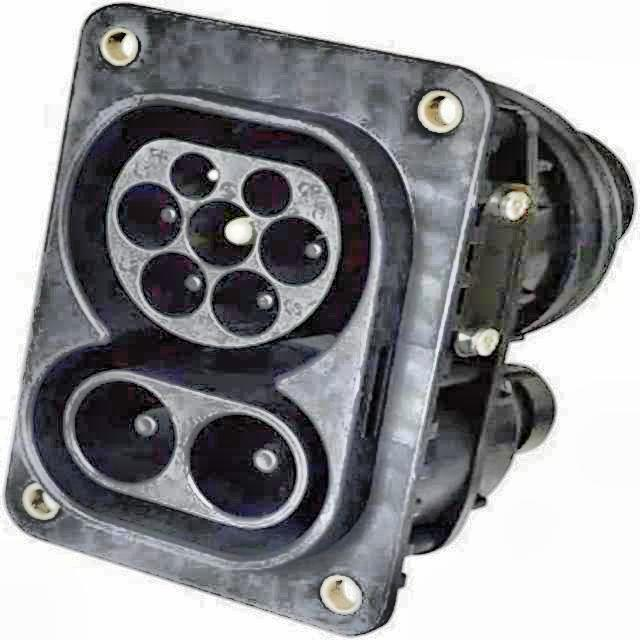inlet: (107, 139, 341, 347)
inlet-above-left: (170, 153, 222, 201)
inlet-above-right: (241, 168, 294, 217)
inlet-below-left: (137, 251, 207, 320)
inlet-below-right: (209, 268, 282, 336)
inlet-center: (186, 200, 255, 268)
inlet-center-left: (116, 183, 183, 251)
inlet-center-right: (259, 216, 329, 286)
